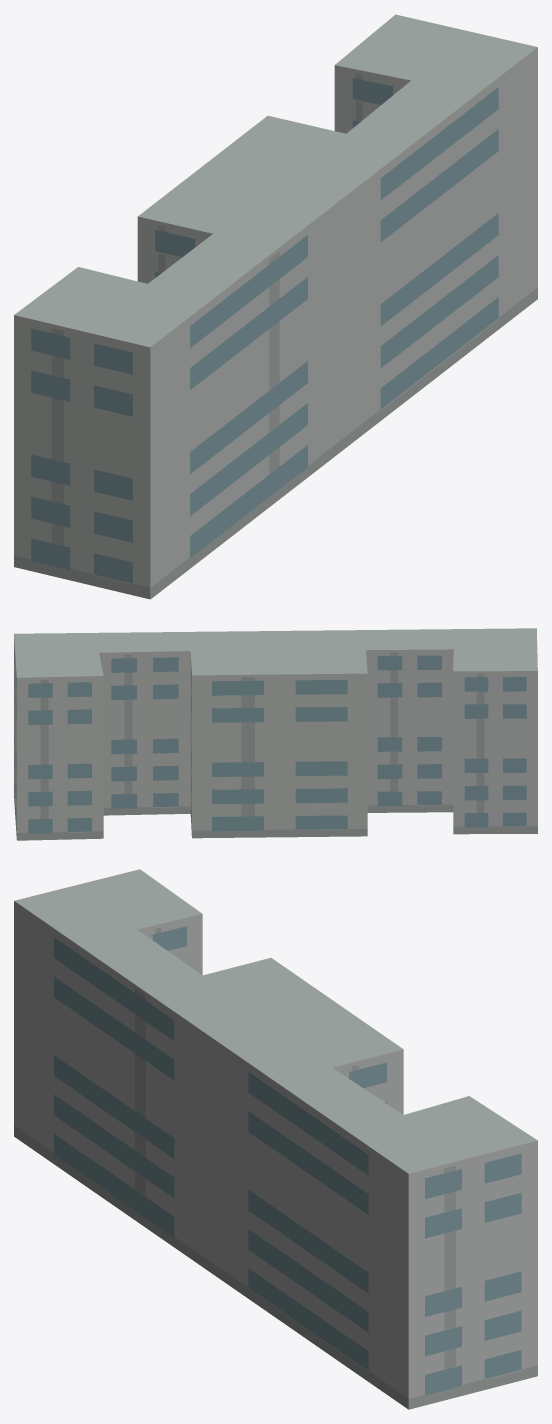
Rendered from survey-upis-32768766.glb.
The picture shows the model from 3 angles, top to bottom: view 1: azimuth 30°, elevation 25°; view 2: azimuth 150°, elevation 25°; view 3: azimuth 270°, elevation 25°; orthographic projection. The views are drawn at different scales.
Parts seen in each view (by area): view 1: survey-upis-32768766.tmp; view 2: survey-upis-32768766.tmp; view 3: survey-upis-32768766.tmp.
Boxes of the visible parts, x1,y1,x2,y2 form: survey-upis-32768766.tmp: (14, 14, 537, 599); survey-upis-32768766.tmp: (14, 628, 537, 840); survey-upis-32768766.tmp: (14, 869, 537, 1409).
Size of the model in its own units: 43.24 by 15.6 by 31.42.
